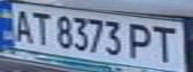3: (103, 18, 127, 56), (69, 15, 90, 52)
7: (84, 16, 106, 54)
8: (51, 12, 75, 50)
A: (6, 7, 36, 44)
P: (124, 20, 160, 61)
T: (148, 22, 184, 64), (27, 8, 54, 46)
